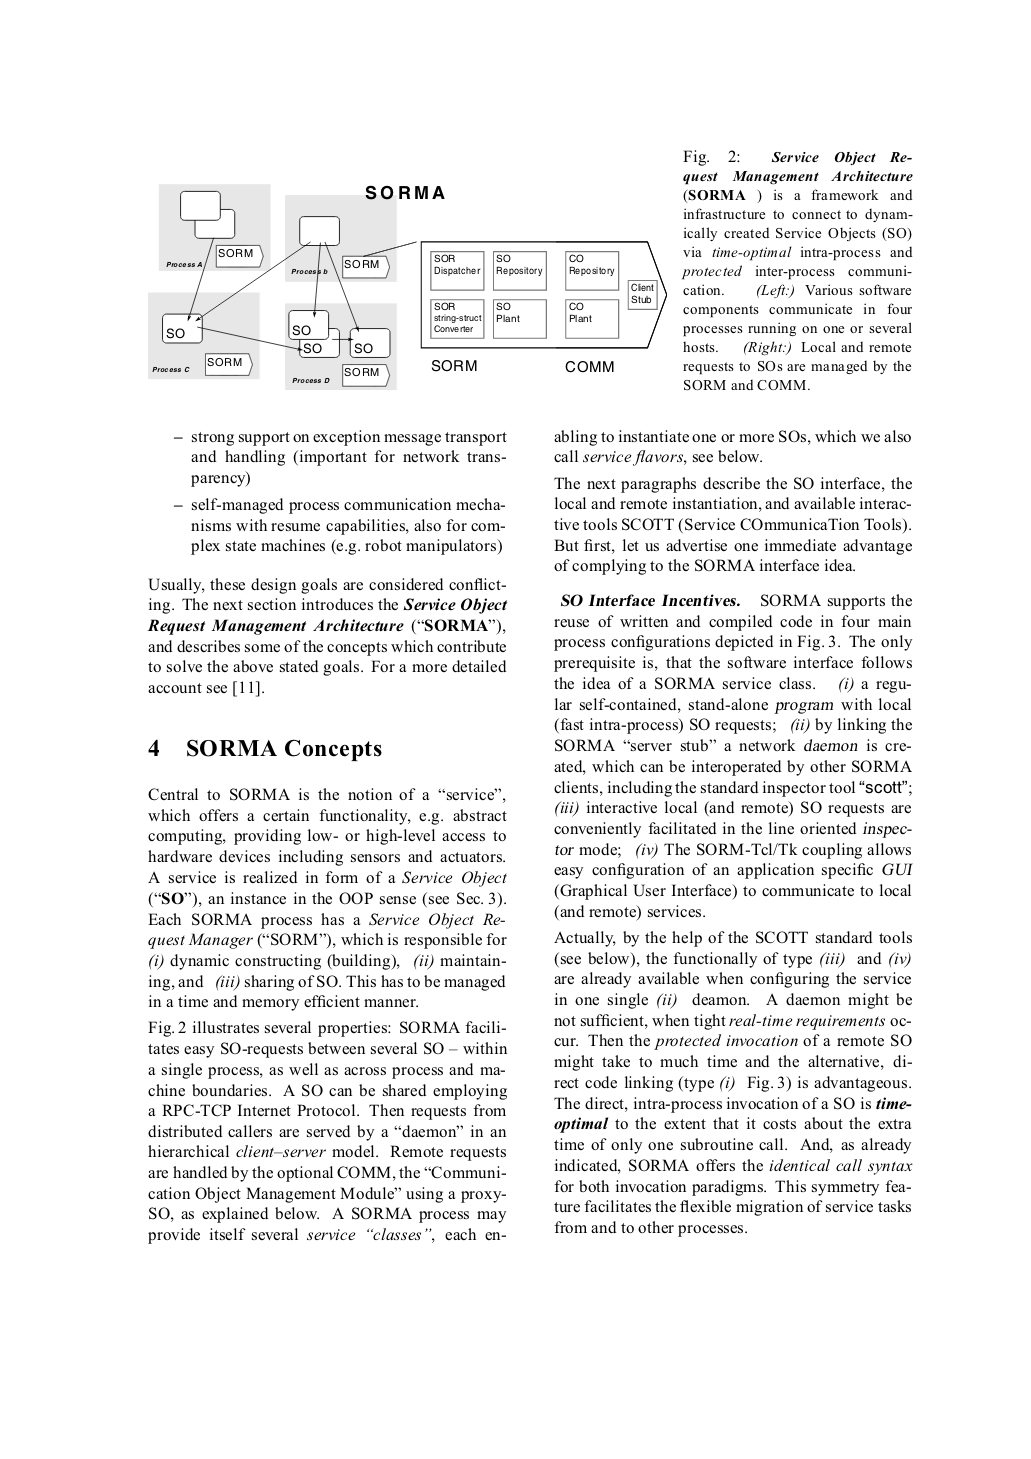figure: (148, 184, 666, 389)
